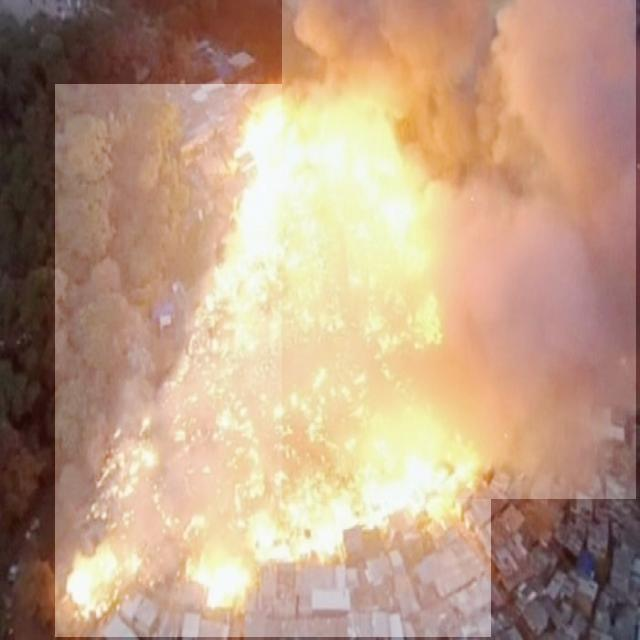Fire: (55, 84, 491, 637)
Smoke: (282, 0, 636, 499)
